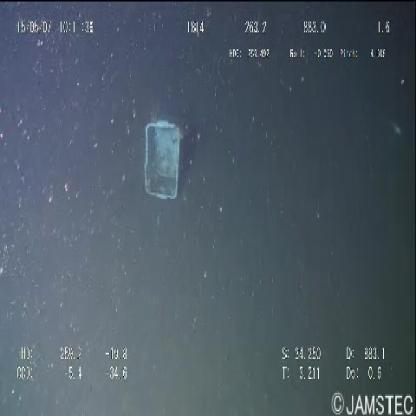Rác: (138, 111, 186, 208)
